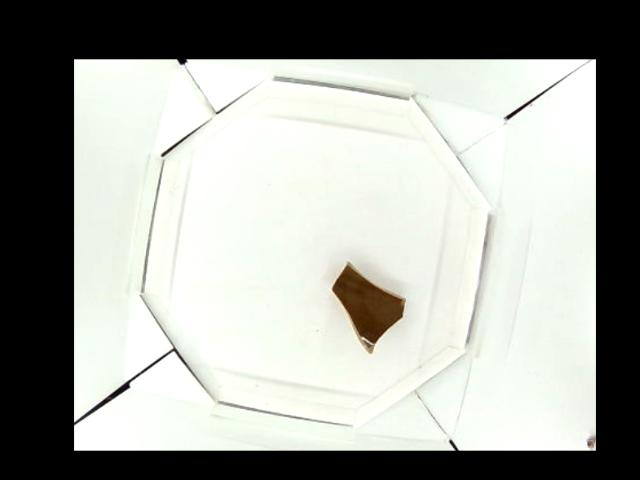China: (330, 257, 406, 353)
